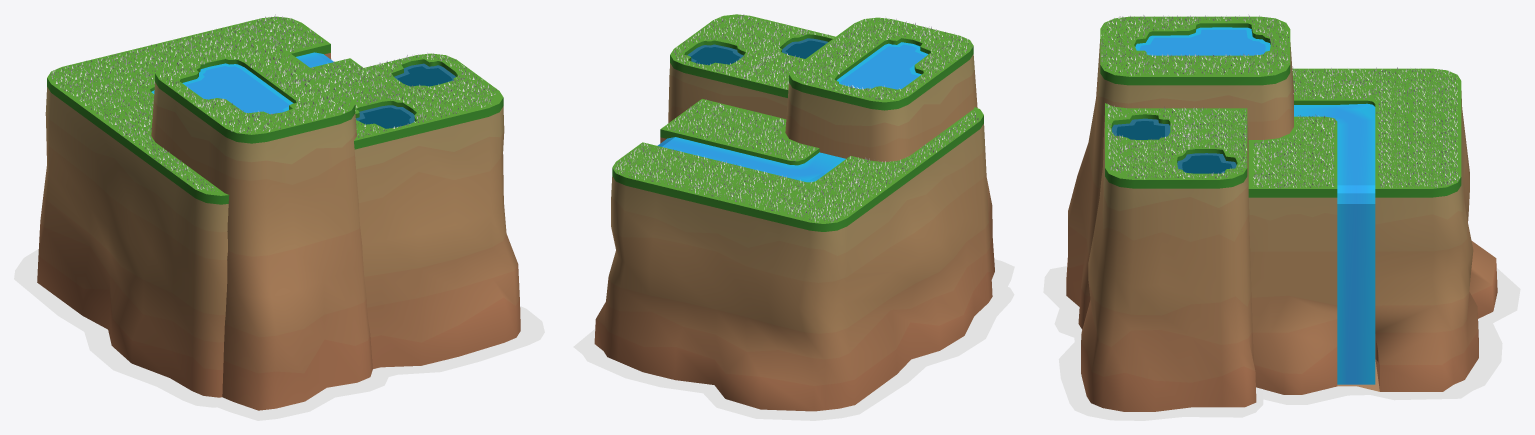
Rendered from Sky_island.fbx.
3 views of the same model, side by side, from view 1: azimuth 30°, elevation 25°; view 2: azimuth 150°, elevation 25°; view 3: azimuth 270°, elevation 25° (orthographic). The views are drawn at different scales.
Parts seen in each view (by area): view 1: Cube.003, Plane.019, Cube.014, Cube.005, Cube.007, Cube.006; view 2: Cube.003, Plane.019, Cube.014, Cube.004, Cube.005, Cube.006, Cube.007; view 3: Cube.003, Plane.019, Cube.004, Cube.014, Cube.005, Cube.007, Cube.006.
Boxes of the visible parts, box(x1,y1,x2,y2) form: Cube.003: box(37, 16, 520, 410); Plane.019: box(50, 14, 496, 191); Cube.014: box(14, 249, 544, 420); Cube.005: box(182, 63, 293, 114); Cube.007: box(356, 105, 414, 128); Cube.006: box(394, 63, 455, 86); Cube.003: box(594, 14, 994, 411); Plane.019: box(614, 14, 978, 222); Cube.014: box(573, 259, 1014, 420); Cube.004: box(657, 137, 845, 182); Cube.005: box(836, 42, 928, 89); Cube.006: box(687, 44, 743, 65); Cube.007: box(782, 38, 828, 58); Cube.003: box(1066, 16, 1497, 411); Plane.019: box(1101, 14, 1459, 188); Cube.004: box(1294, 103, 1375, 384); Cube.014: box(1043, 266, 1520, 420); Cube.005: box(1135, 27, 1270, 55); Cube.007: box(1111, 118, 1170, 139); Cube.006: box(1177, 153, 1236, 173).
Size of the model in its own units: 4461 by 3038 by 5025.
